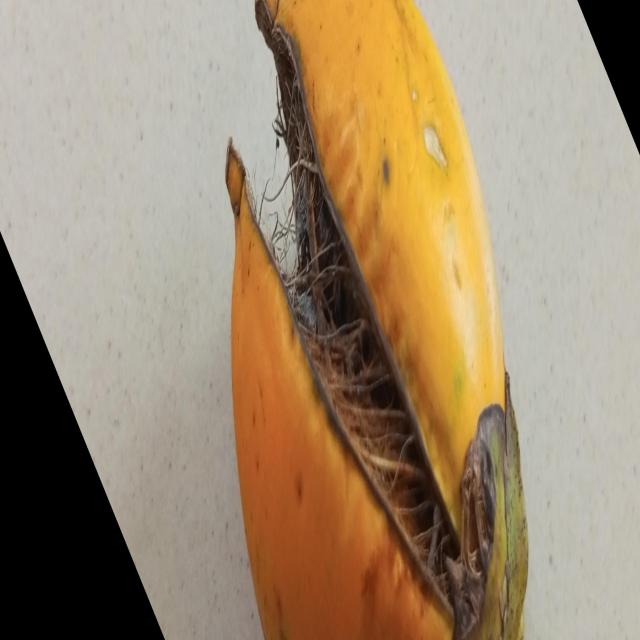damaged: (225, 0, 528, 640), (275, 0, 504, 535)
